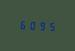five: (45, 20, 53, 31)
nine: (36, 19, 44, 31)
six: (18, 19, 26, 30)
zero: (27, 19, 35, 30)
